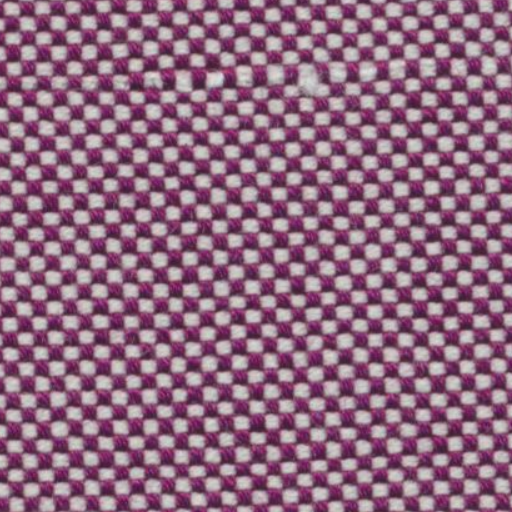DaiSha: (81, 56, 464, 98)
